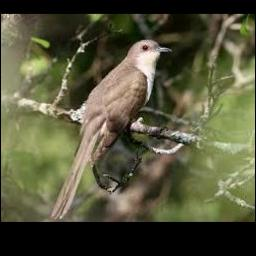Cuckoo: (53, 39, 172, 219)
